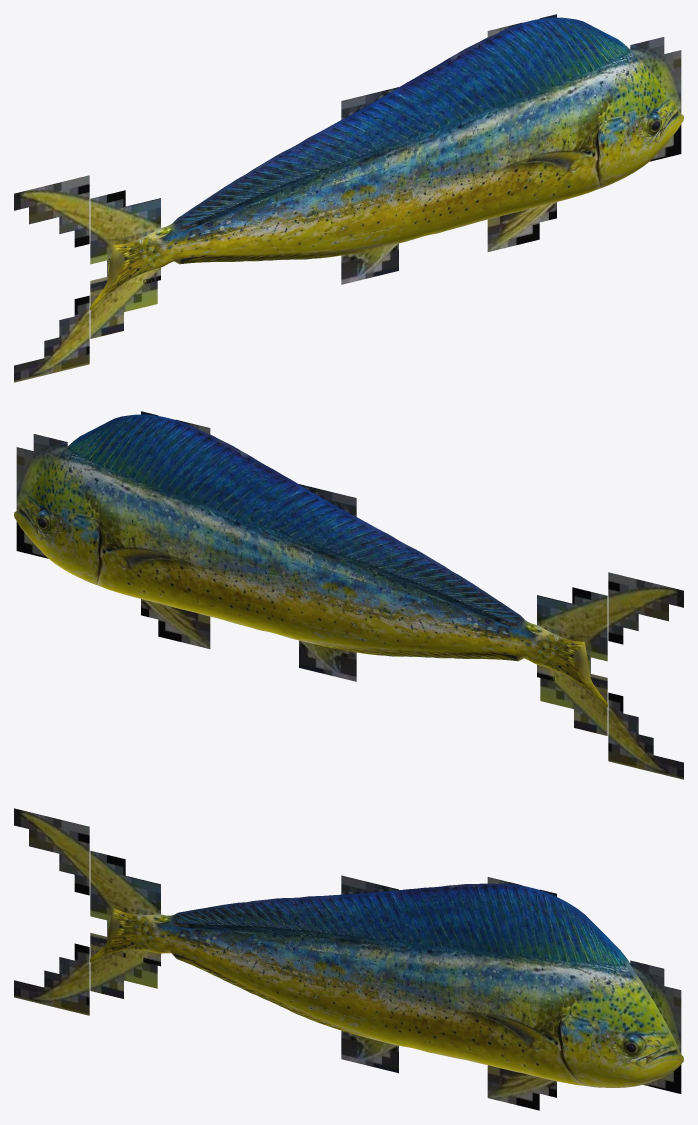
The model's file is real-coryphaena_hippurus.glb.
3 renders of one model, top to bottom at view 1: azimuth 30°, elevation 25°; view 2: azimuth 150°, elevation 25°; view 3: azimuth 330°, elevation 25°, orthographic.
Visible parts, largest first — view 1: coryphaena_hippurus; view 2: coryphaena_hippurus; view 3: coryphaena_hippurus.
Boxes of the visible parts, x1,y1,x2,y2 form: coryphaena_hippurus: (14, 14, 683, 382); coryphaena_hippurus: (14, 411, 683, 779); coryphaena_hippurus: (14, 808, 683, 1110).
Bounding box in the file's own units: 1 × 0.3373 × 0.1052.
1 material, 1 textured.
